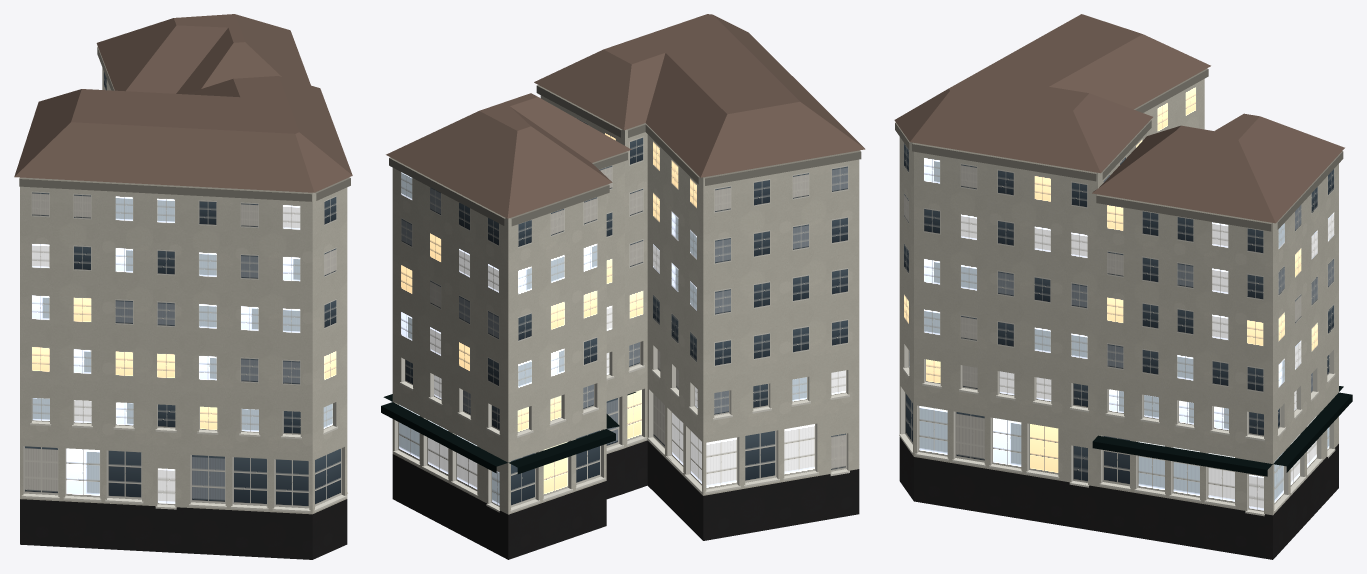
Rendered from langB_diamond.glb.
3 renders of one model, left to right at view 1: azimuth 30°, elevation 25°; view 2: azimuth 150°, elevation 25°; view 3: azimuth 270°, elevation 25°, orthographic. The views are drawn at different scales.
Visible parts, largest first — view 1: langB_diamond; view 2: langB_diamond; view 3: langB_diamond.
Part boxes in pixels (x1,y1,x2,y2): langB_diamond: [14, 14, 352, 559]; langB_diamond: [381, 14, 865, 559]; langB_diamond: [894, 14, 1352, 559].
Bounding box in the file's own units: 26.63 × 26.69 × 27.95.
3 materials, 3 textured.
